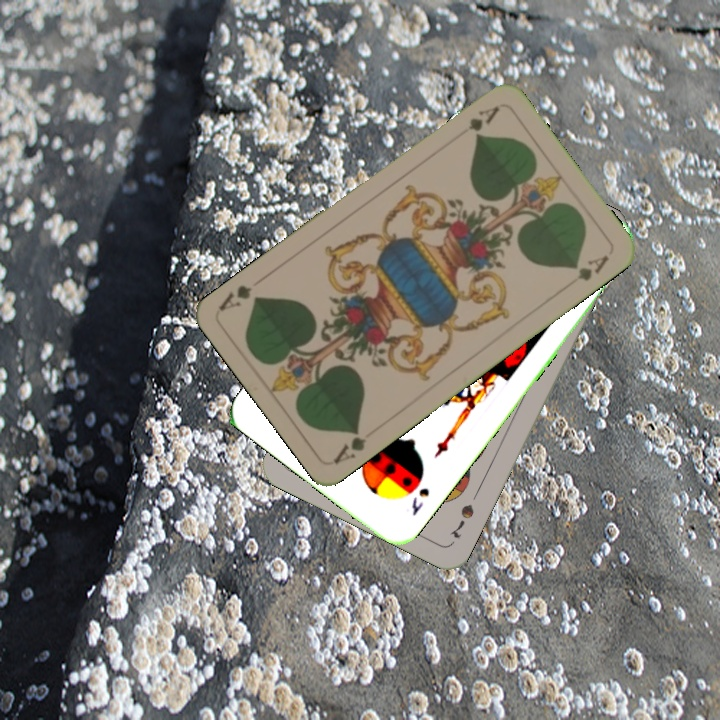GA: (330, 425, 369, 467), (464, 102, 503, 138)
S7: (447, 499, 477, 541)
SK: (407, 483, 432, 519)
